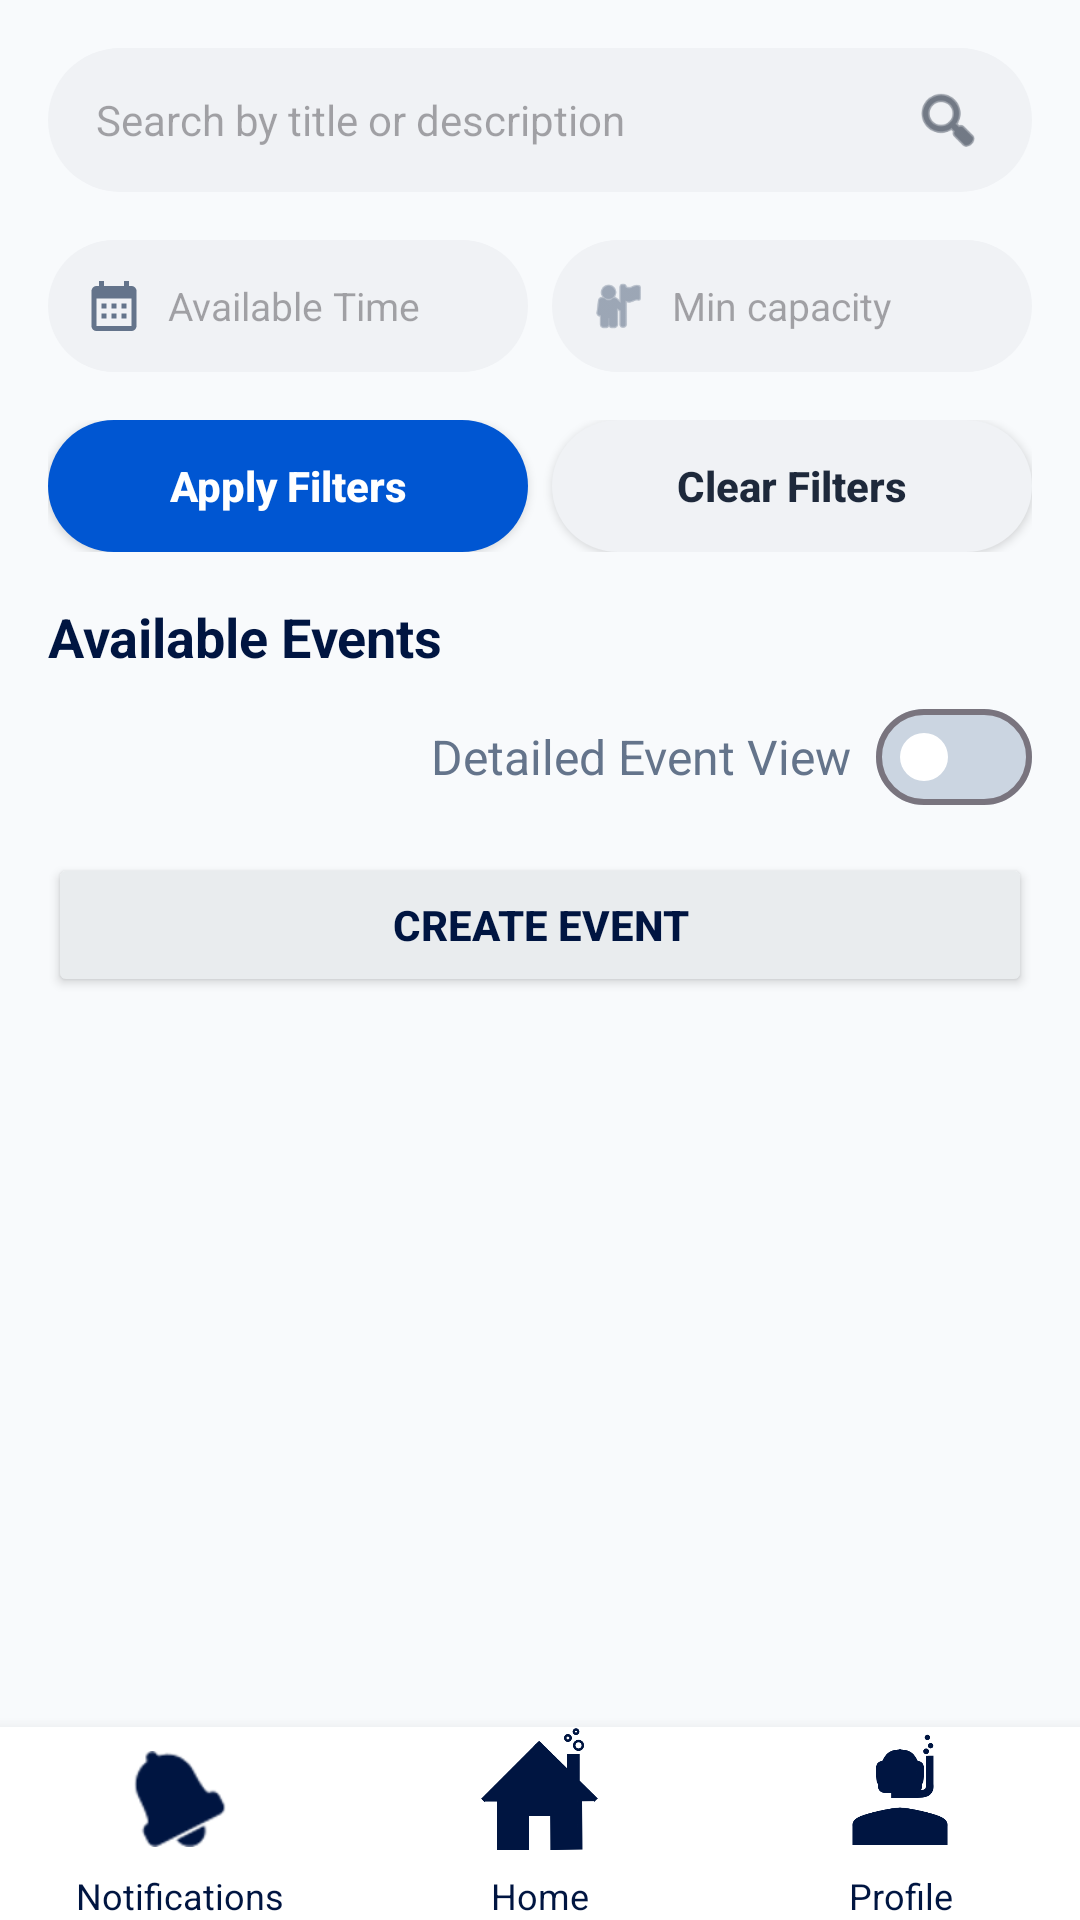

Screen size 1080*1920. Icon name, then its box in pixels as (x1, y1, x2, y2):
calendar: (91, 281, 137, 331)
popup reminder: (135, 1751, 225, 1847)
